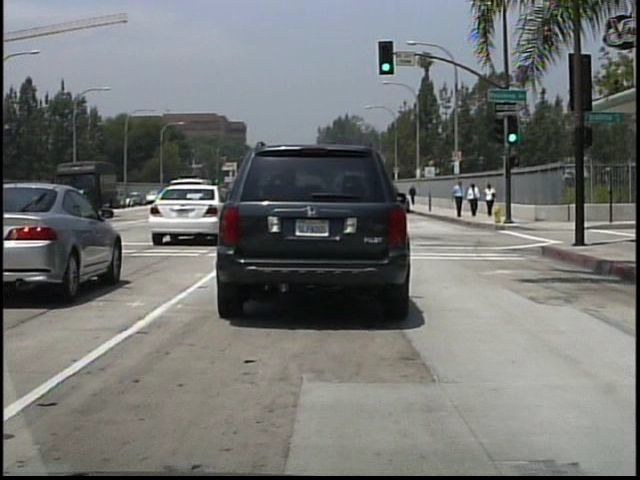person: (452, 178, 467, 219), (466, 180, 481, 216), (482, 180, 496, 215), (407, 184, 417, 206)
